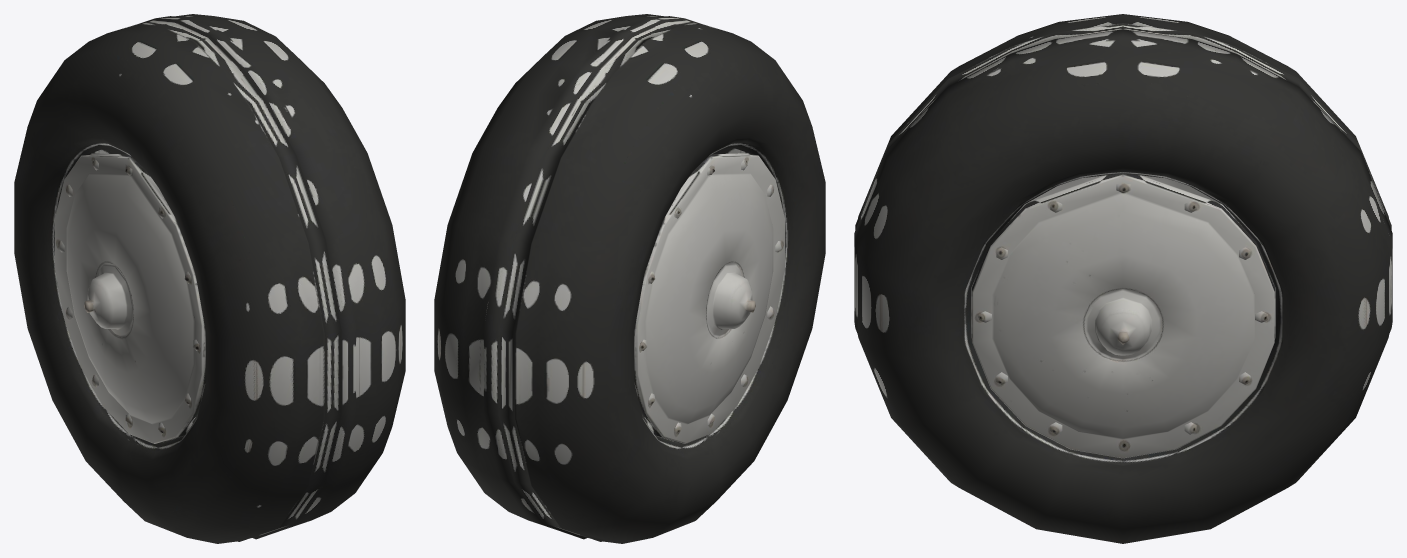
The model's file is wheel_remesh.glb.
3 views of the same model, side by side, from view 1: azimuth 30°, elevation 25°; view 2: azimuth 150°, elevation 25°; view 3: azimuth 270°, elevation 25° (orthographic). The views are drawn at different scales.
Parts seen in each view (by area): view 1: tripo_node_af10d117-5afb-44d0-94a7-4d7e5; view 2: tripo_node_af10d117-5afb-44d0-94a7-4d7e5; view 3: tripo_node_af10d117-5afb-44d0-94a7-4d7e5.
Boxes of the visible parts, left/top/right/bottom form: tripo_node_af10d117-5afb-44d0-94a7-4d7e5: left=14, top=14, right=405, bottom=543; tripo_node_af10d117-5afb-44d0-94a7-4d7e5: left=434, top=14, right=825, bottom=543; tripo_node_af10d117-5afb-44d0-94a7-4d7e5: left=854, top=14, right=1392, bottom=543.
Size of the model in its own units: 0.5342 by 0.9941 by 0.9726.
Materials: 1 (1 with a texture image).
